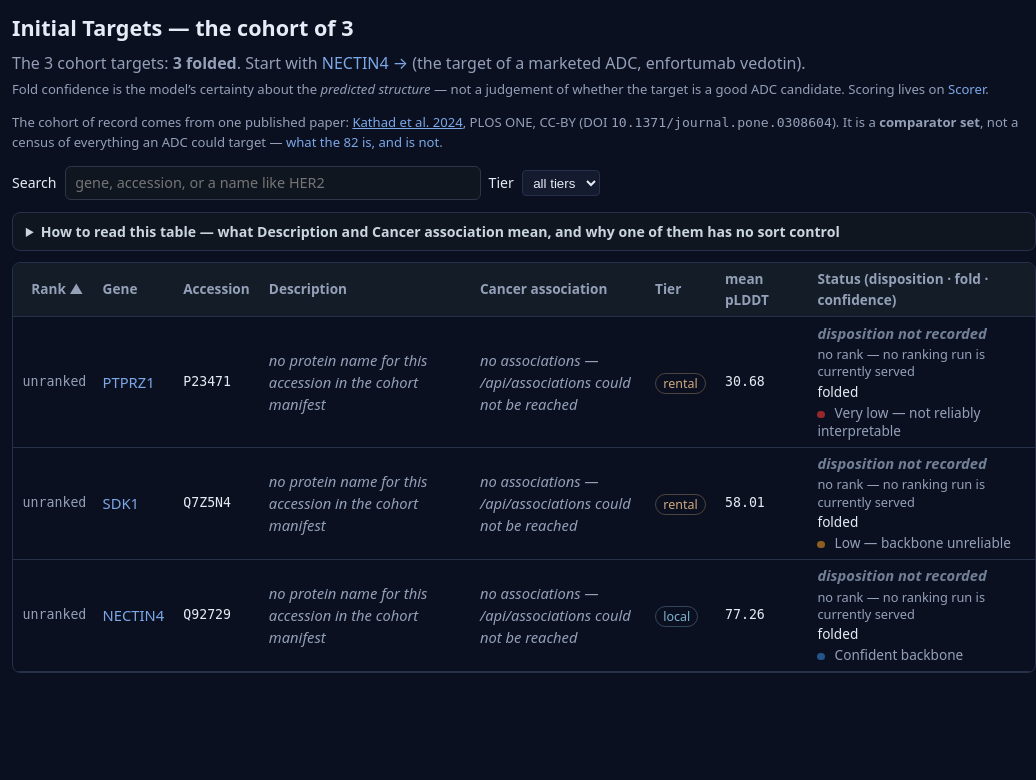
Scenario: TargetList — tier legibility (D-048 §3.2) › filtering back to "all tiers" restores every row
Expected: the link "NECTIN4" is shown, [103,605,164,625]
Step 1. Select "rental" in the dropdown labelled "Tier" → (561, 183), box [522,170,600,196]
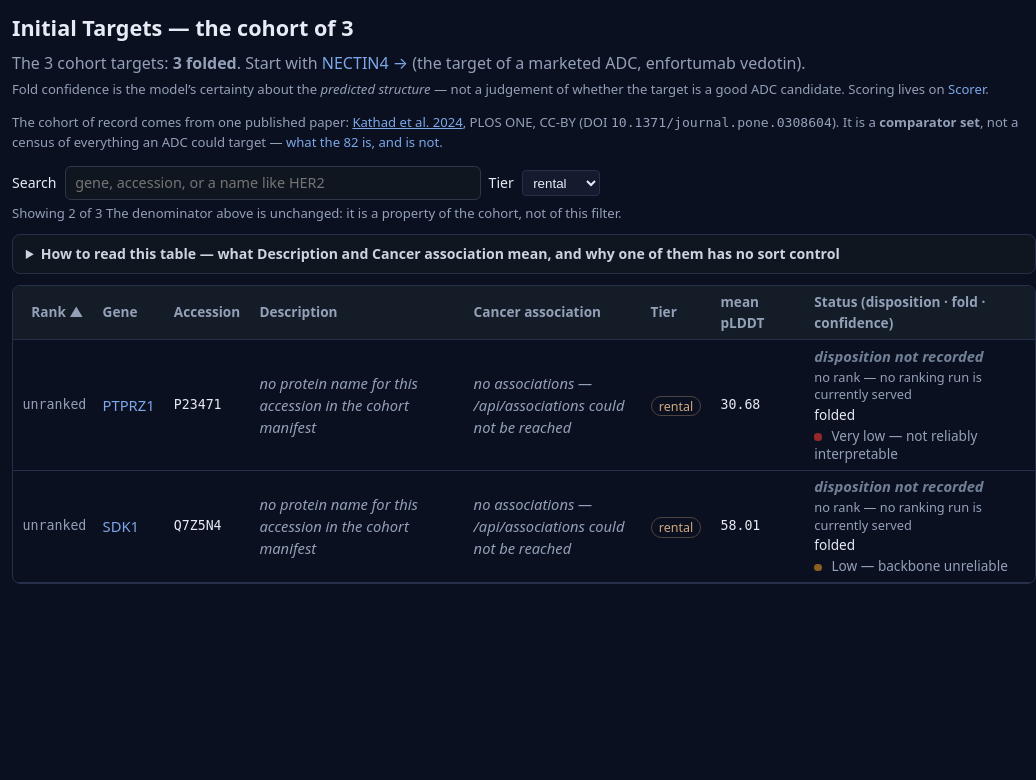
Step 2. Select "all tiers" in the dropdown labelled "Tier" → (561, 183), box [522,170,600,196]
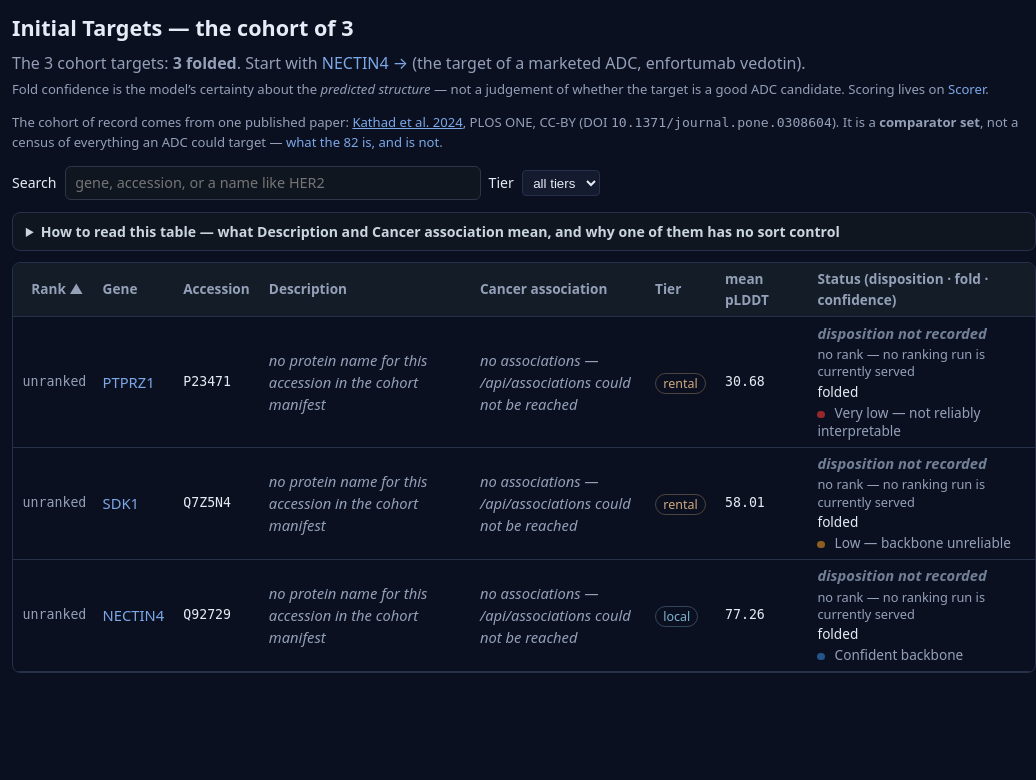
Expected: the link "SDK1" is shown, [103,493,139,513]
Expected: the link "NECTIN4" is shown, [103,605,164,625]
